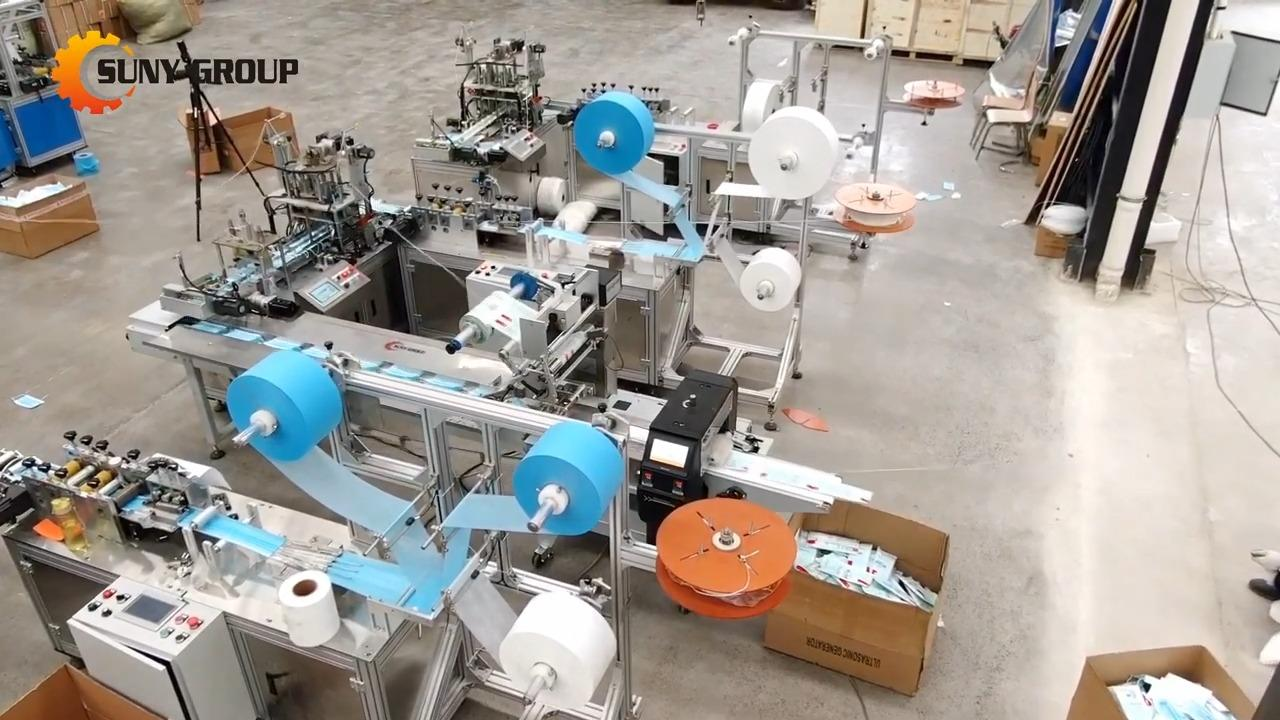mask: (427, 373, 470, 397), (381, 360, 424, 381), (266, 336, 302, 353), (190, 319, 226, 334), (227, 330, 263, 344), (2, 412, 24, 428)
